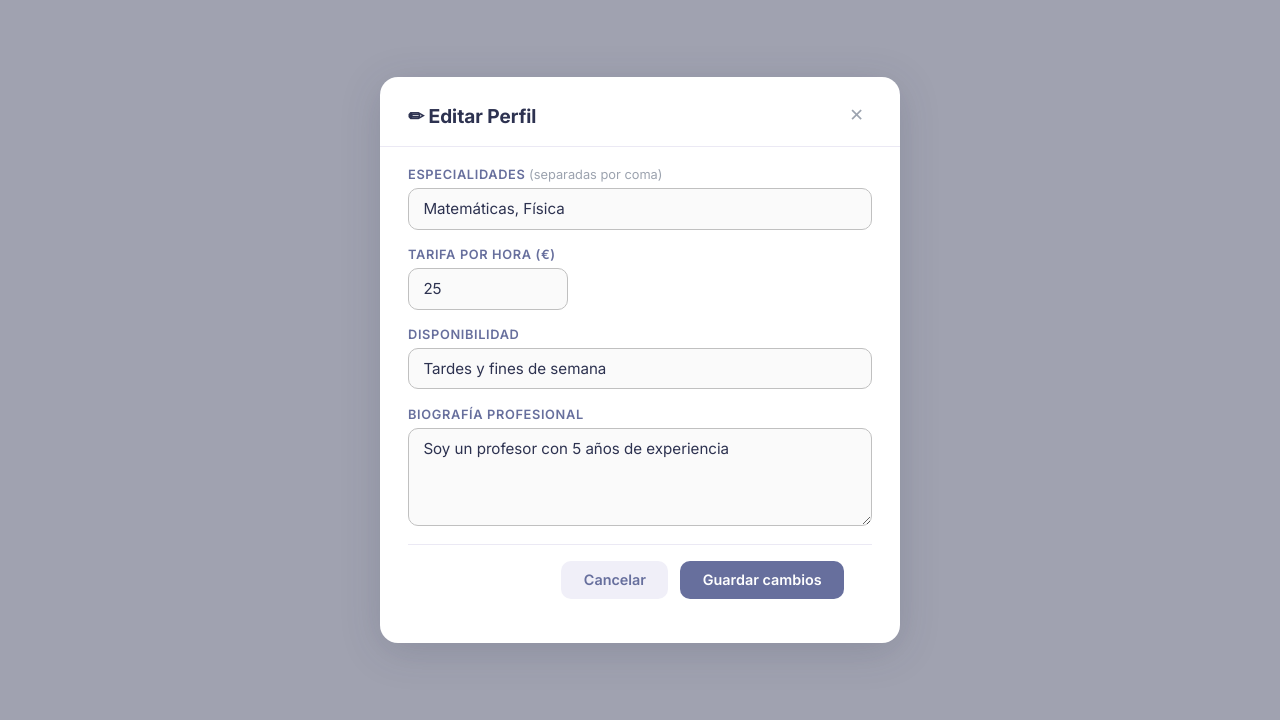
Scenario: EditProfileModal › muestra mensaje de error cuando falla el guardado
Click the button "Guardar cambios" at (762,580), box [680, 561, 844, 599]
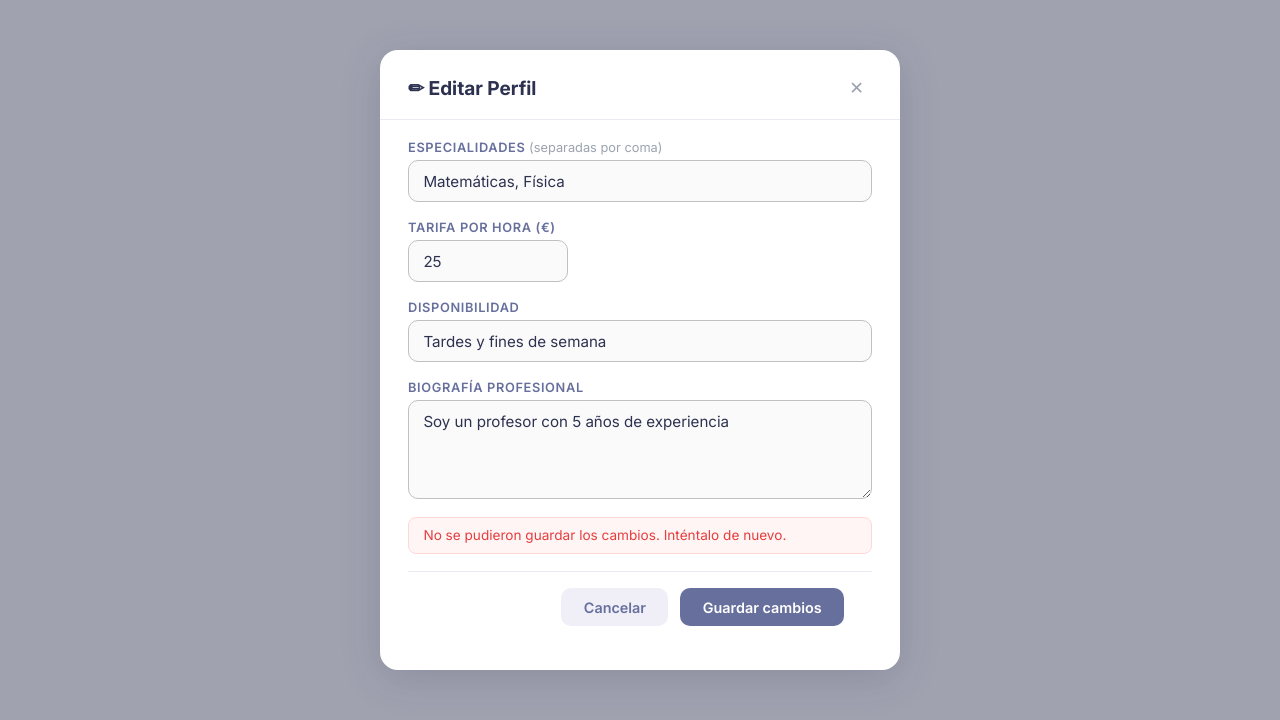
Result: the text "No se pudieron guardar los cambios. Inténtalo de nuevo." is shown at [408, 517, 872, 554]
